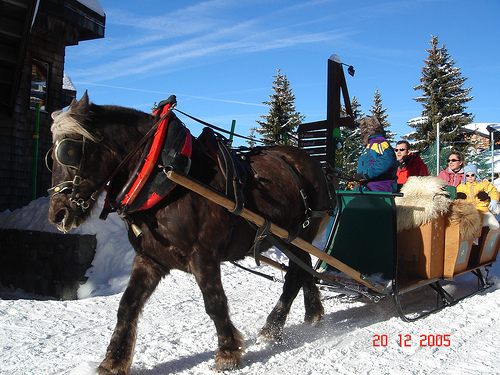horse: (45, 91, 334, 374)
